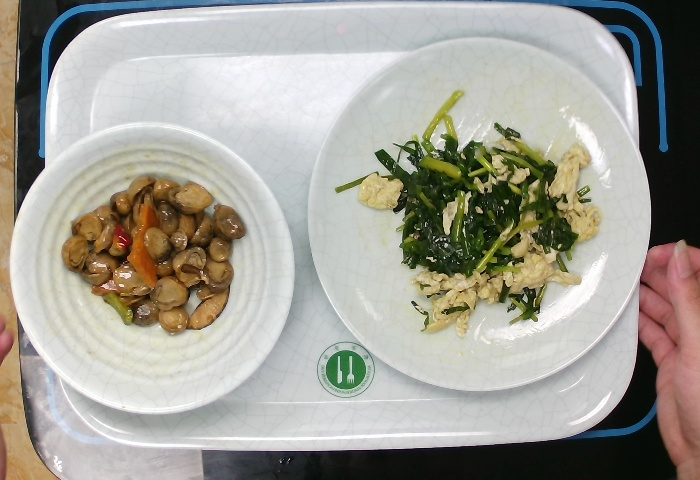JYsf-Da_Yuan_Pan: (303, 31, 656, 397)
JYsf-Xiao_Tang_Wan: (5, 116, 298, 420)
